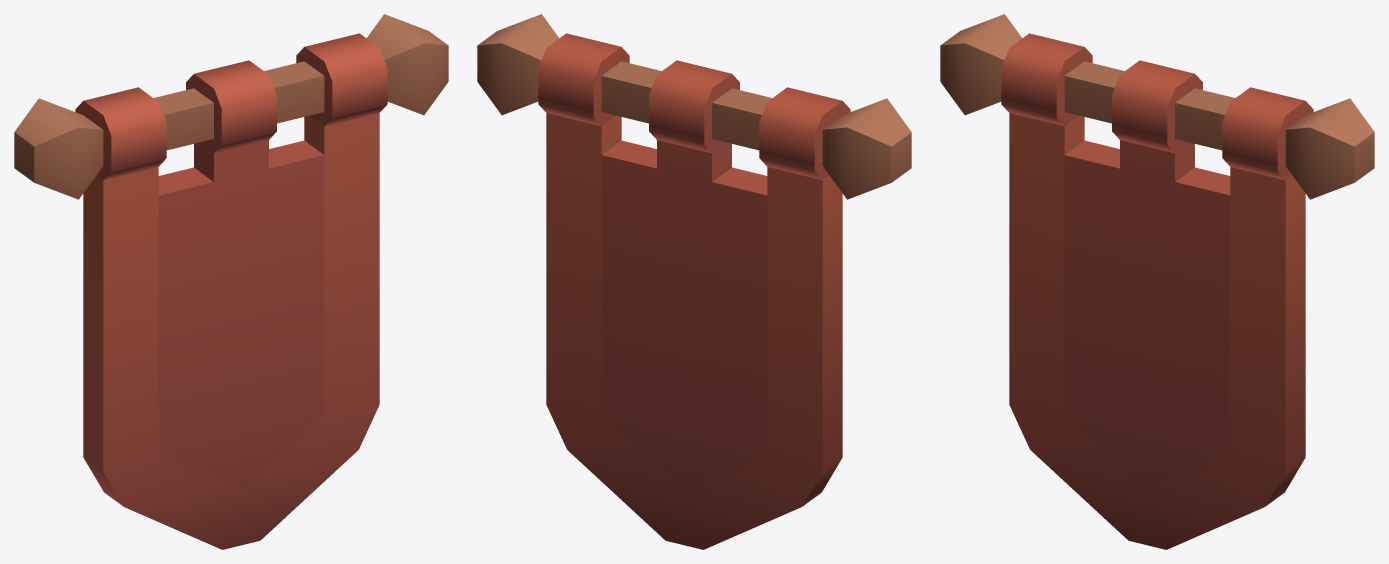
File: banner.glb
The picture shows the model from 3 angles, left to right: view 1: azimuth 30°, elevation 25°; view 2: azimuth 150°, elevation 25°; view 3: azimuth 330°, elevation 25°; orthographic projection.
Visible parts, largest first — view 1: banner; view 2: banner; view 3: banner.
Boxes of the visible parts, x1,y1,x2,y2 form: banner: (14,14,448,549); banner: (477,14,911,549); banner: (940,14,1374,549).
Size of the model in its own units: 1.48 by 1.6 by 0.2475.
